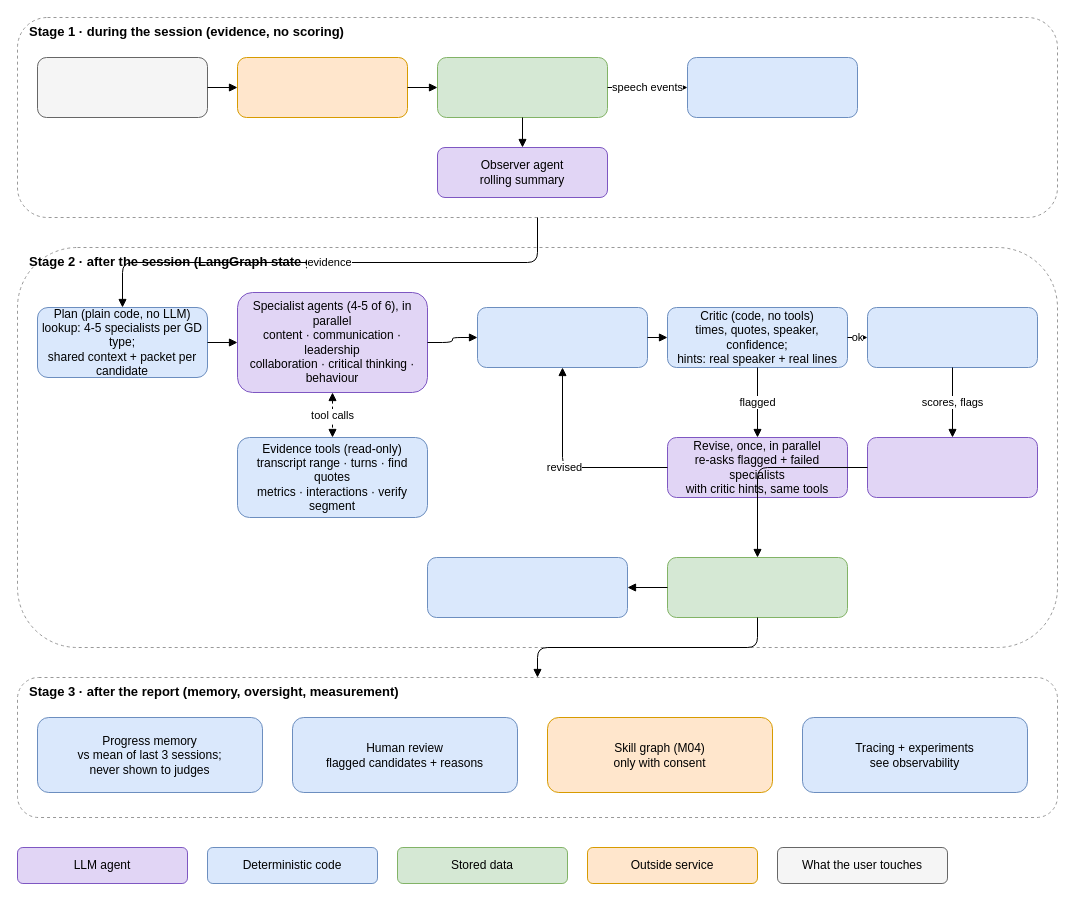
Image size: 1075x901. Some labels were removed from this diagram. Here are the shapes that lost their labels. From the top down, the centre of each, then its label:
At (x=122, y=87): "Audio chunks".
At (x=322, y=87): "Speech-to-text".
At (x=522, y=87): "Transcript segments speaker-attributed".
At (x=772, y=87): "Metrics engine talk time · turns · interruptions".
At (x=562, y=337): "Collect usable · failed · conflicts (>2 pts)".
At (x=952, y=337): "Aggregate (code) fixed weights · penalty · review flags".
At (x=952, y=467): "Synthesis agent per candidate + group report agent".
At (x=527, y=587): "Delete raw audio transcripts and reports stay".
At (x=757, y=587): "Reports stored users notified".
